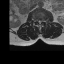CCS_stenosis: (39, 18, 40, 25)
LFS_stenosis: (42, 18, 44, 23)
LLS_normal: (40, 18, 42, 24)
RFS_stenosis: (35, 18, 37, 23)
RLS_stenosis: (37, 18, 39, 24)
